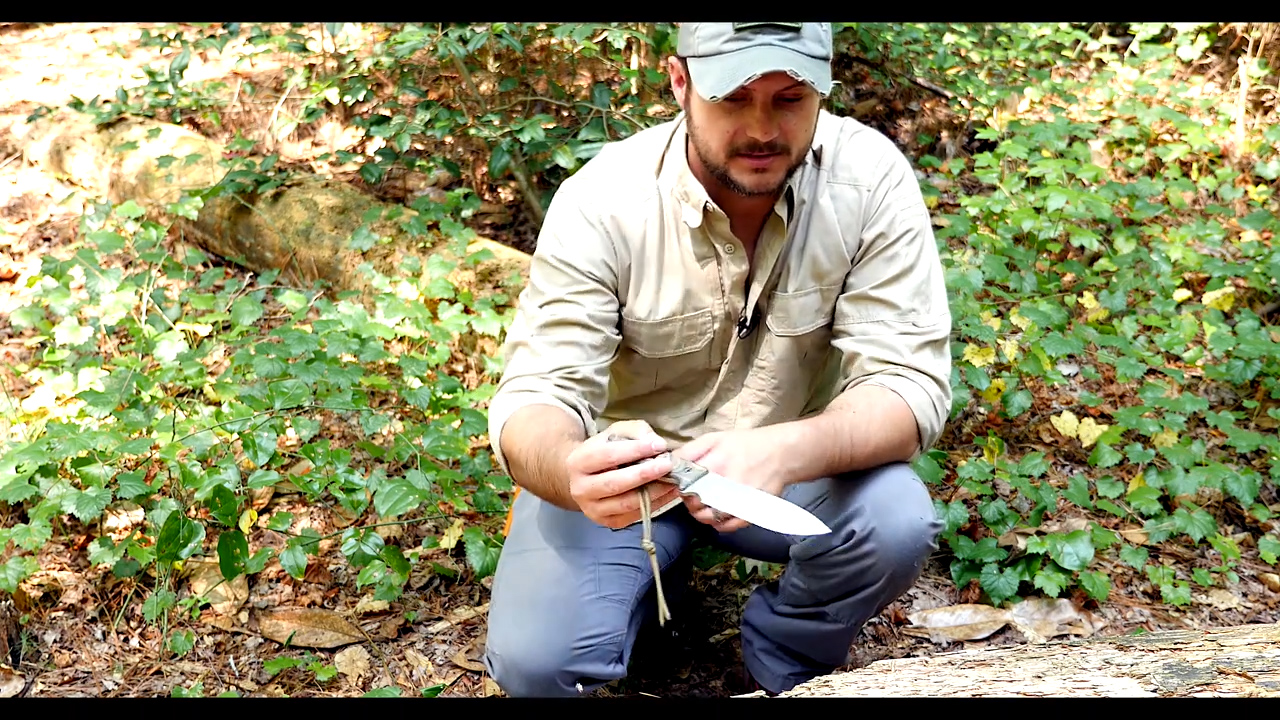knife: (586, 417, 844, 543)
